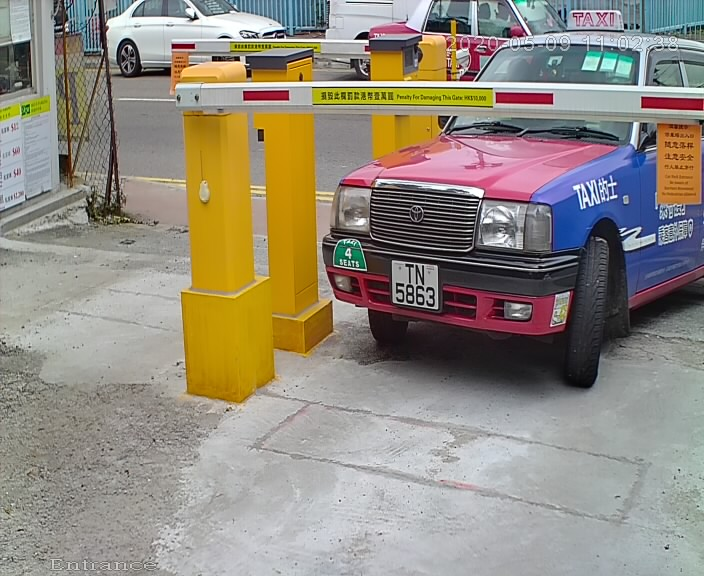taxi: (307, 2, 698, 393)
taxi_mark: (326, 229, 380, 279)
